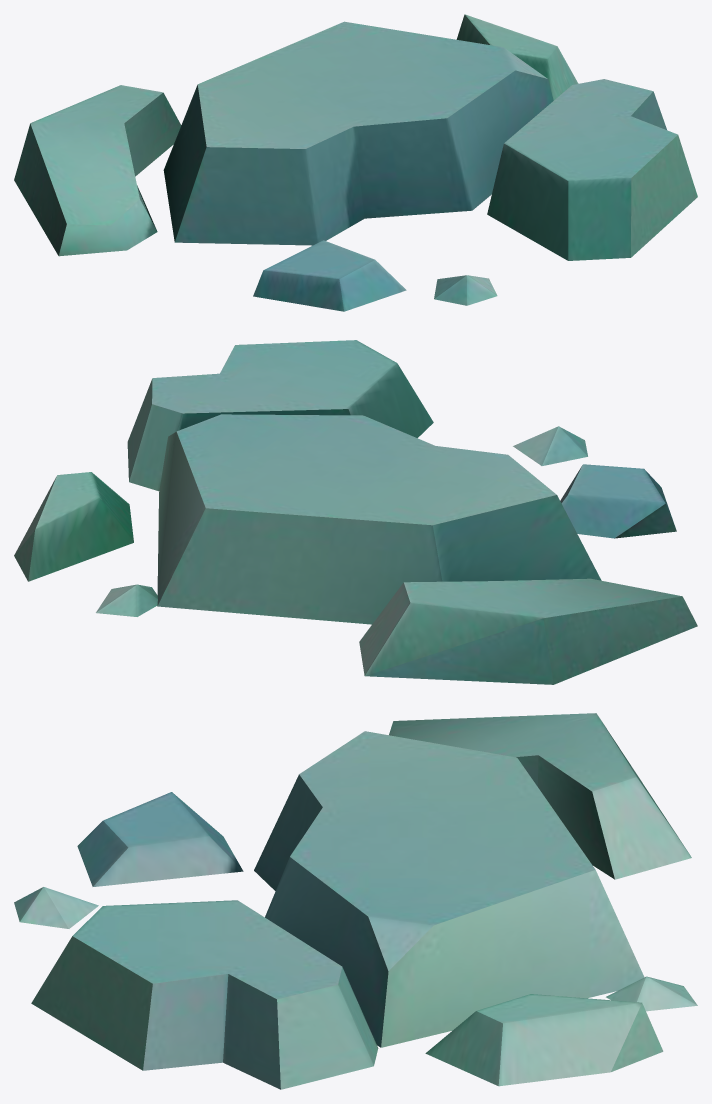
The model's file is Sce_worldmap_quarry_01.FBX.
3 renders of one model, top to bottom at view 1: azimuth 30°, elevation 25°; view 2: azimuth 150°, elevation 25°; view 3: azimuth 270°, elevation 25°, orthographic. The views are drawn at different scales.
Visible parts, largest first — view 1: Sce_worldmap_quarry_01; view 2: Sce_worldmap_quarry_01; view 3: Sce_worldmap_quarry_01.
Boxes of the visible parts, x1,y1,x2,y2 form: Sce_worldmap_quarry_01: (14,14,697,311); Sce_worldmap_quarry_01: (14,340,697,684); Sce_worldmap_quarry_01: (14,713,697,1089).
Size of the model in its own units: 55.21 by 8.13 by 46.64.
